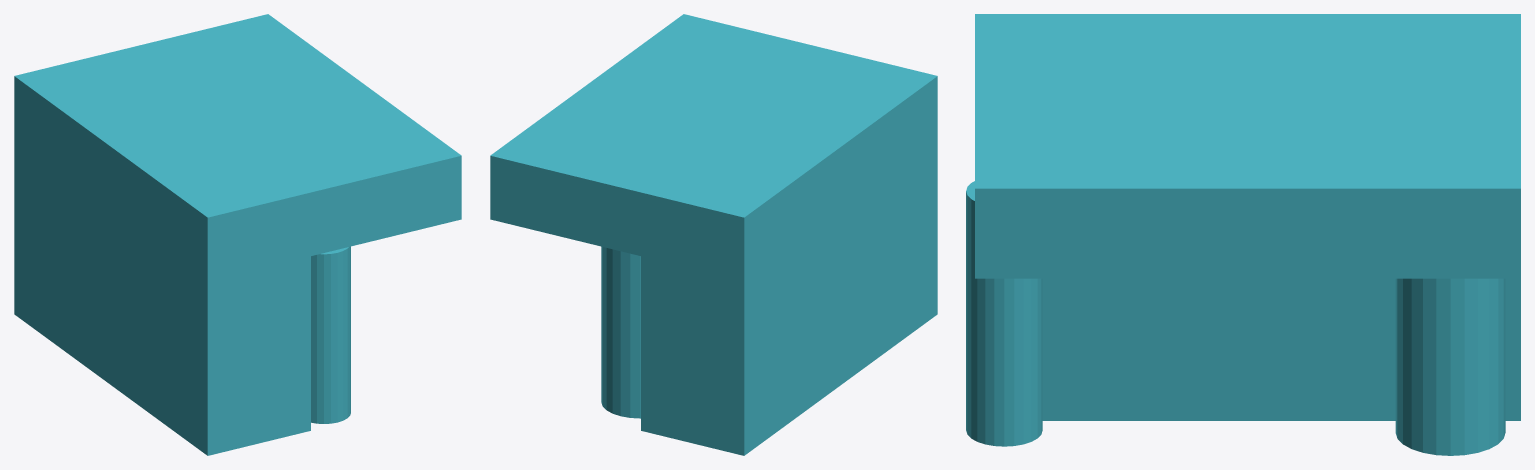
3 renders of one model, left to right at view 1: azimuth 30°, elevation 25°; view 2: azimuth 150°, elevation 25°; view 3: azimuth 270°, elevation 25°, orthographic. The views are drawn at different scales.
Parts seen in each view (by area): view 1: Renderer Node; view 2: Renderer Node; view 3: Renderer Node.
Part boxes in pixels (left/top/right/bottom): Renderer Node: left=14, top=14, right=461, bottom=455; Renderer Node: left=490, top=14, right=937, bottom=455; Renderer Node: left=966, top=14, right=1520, bottom=455.
Size of the model in its own units: 0.5269 by 0.4723 by 0.7066.
1 material, 1 textured.
